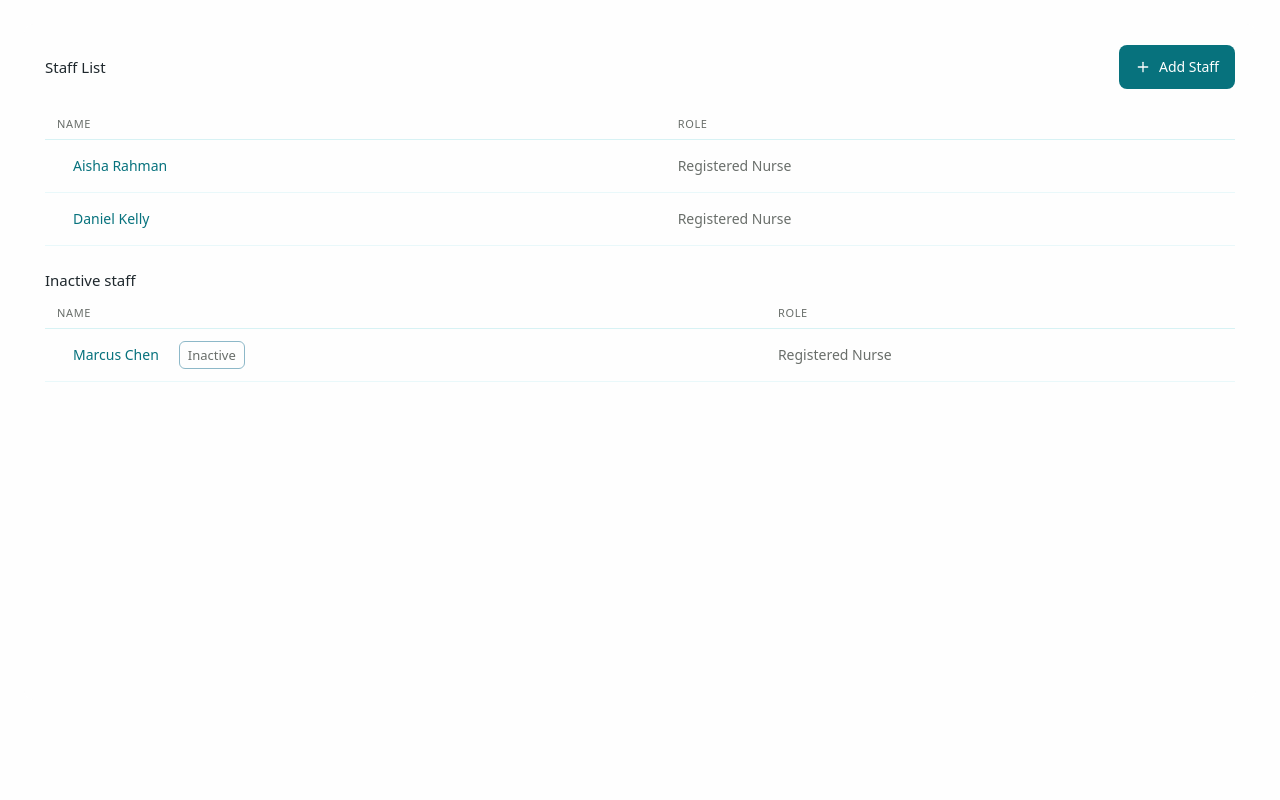
Scenario: [ADM-03][AC-07] Deactivate with confirmation › [ADM-03][AC-09] when deactivateStaff fails the carer stays active and an alert says so
Click the button with aria-label "Edit Aisha Rahman": (120, 166) [57, 144, 183, 188]
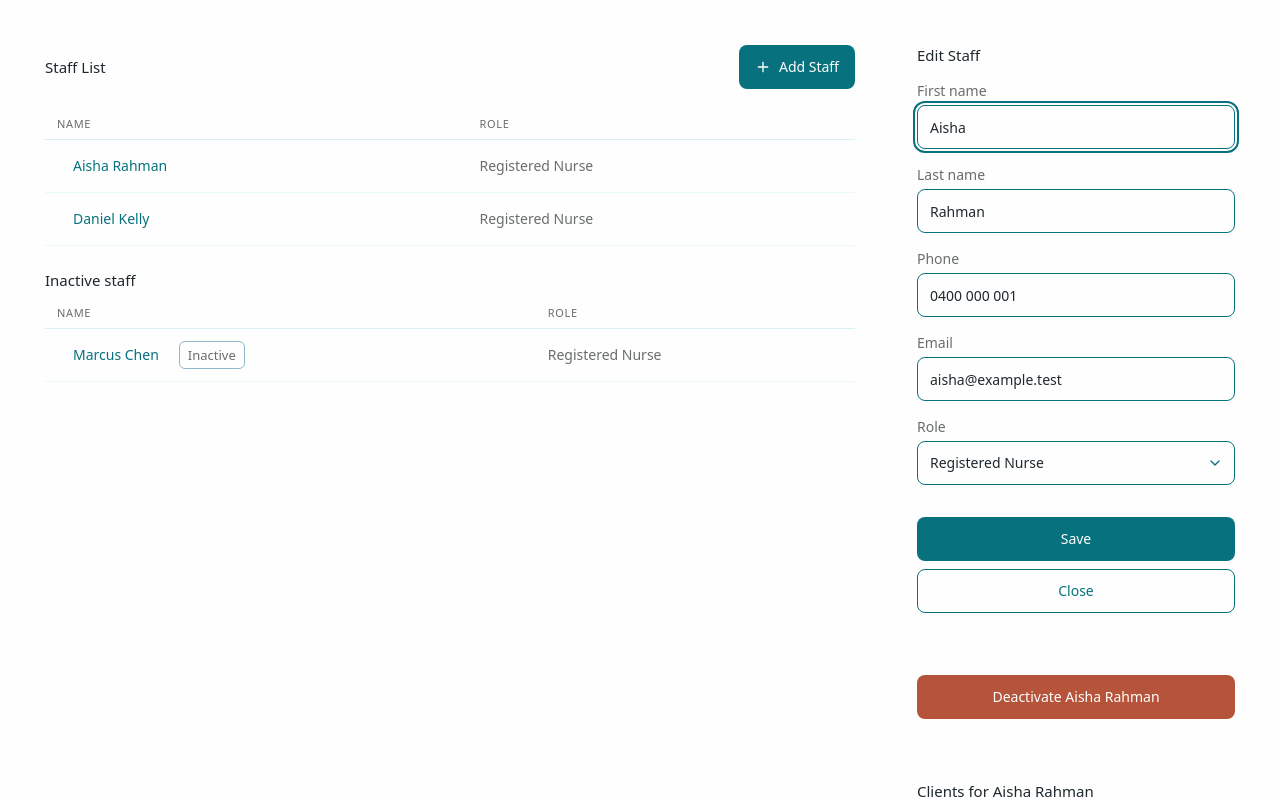
Click the button "Deactivate Aisha Rahman": (1076, 697) [917, 675, 1235, 719]
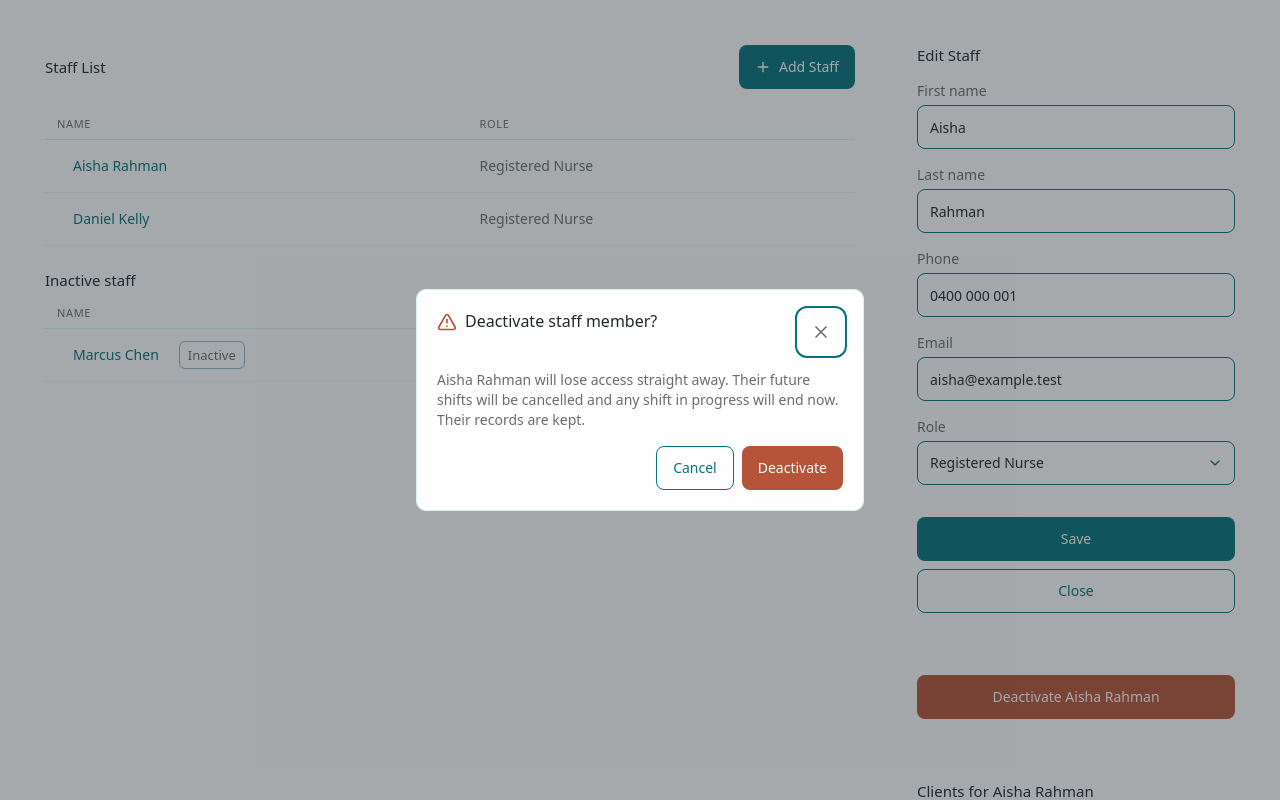
Click the button "Deactivate": (792, 468) [742, 446, 843, 490]
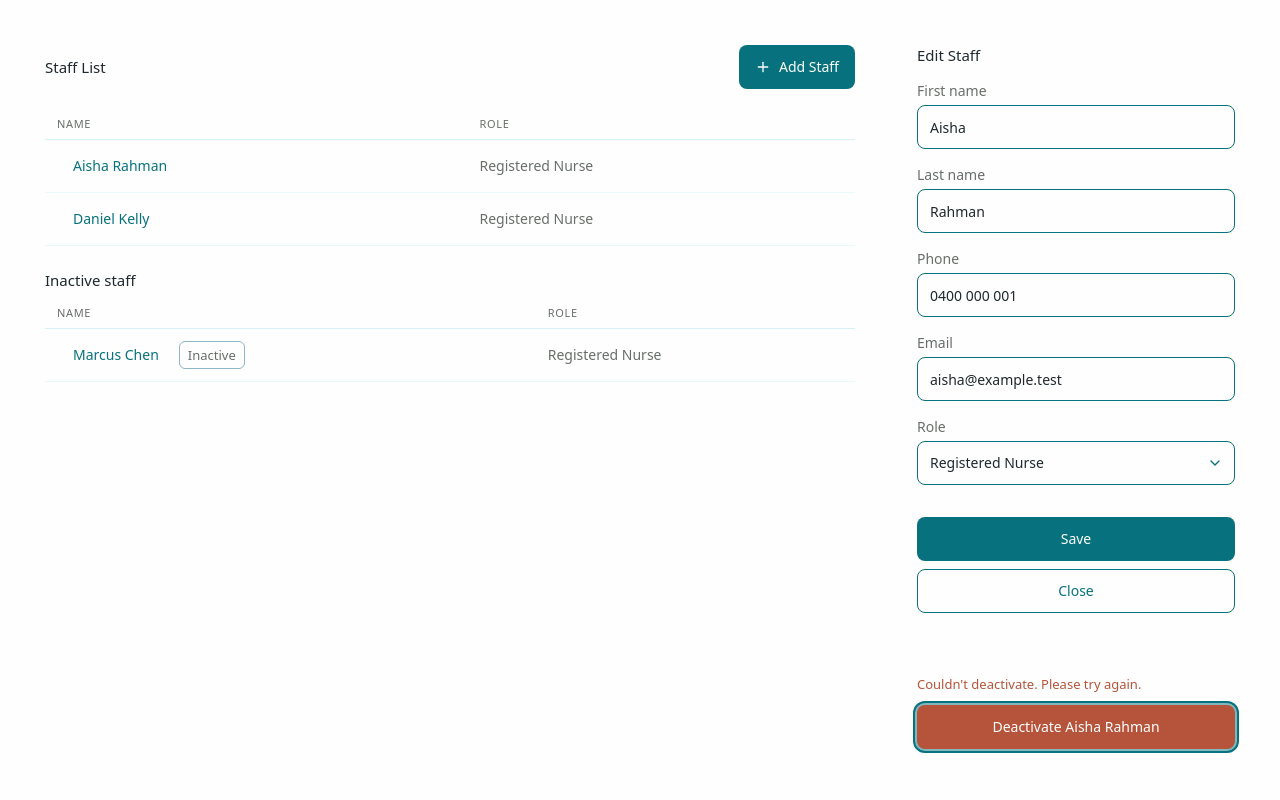
expect the button "Deactivate Aisha Rahman" is shown: met, box [917, 705, 1235, 749]
expect the message shows "Couldn't deactivate": met, box [917, 675, 1141, 693]
expect the dialog is gone: met
